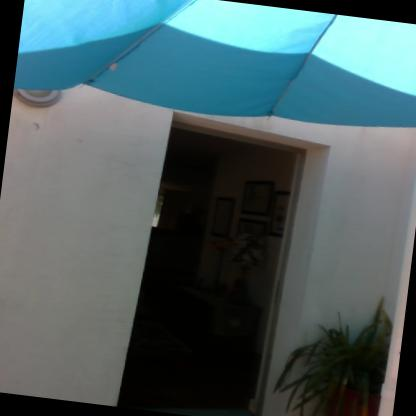open: (97, 101, 350, 415)
